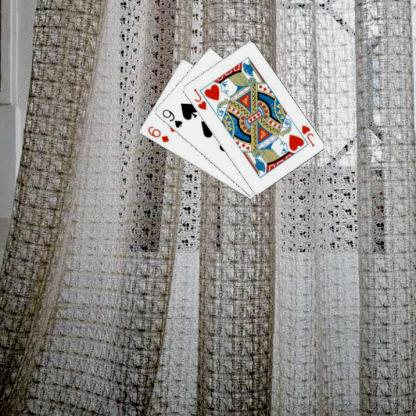6D: (145, 123, 170, 144)
9S: (159, 106, 184, 130)
JH: (298, 123, 316, 148), (191, 86, 208, 111)
